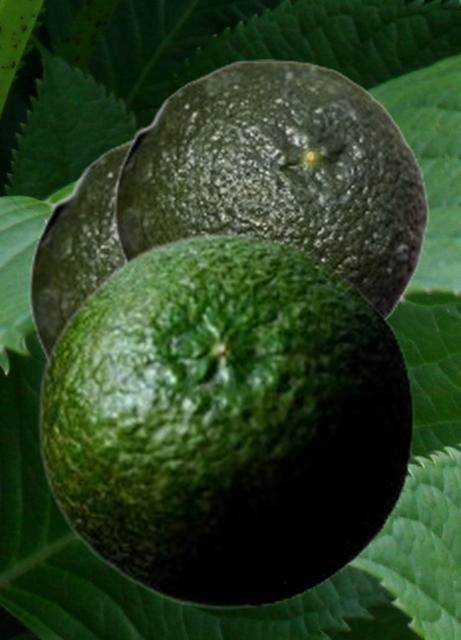calamansi: (37, 232, 413, 609), (113, 59, 429, 320), (28, 135, 132, 362)
